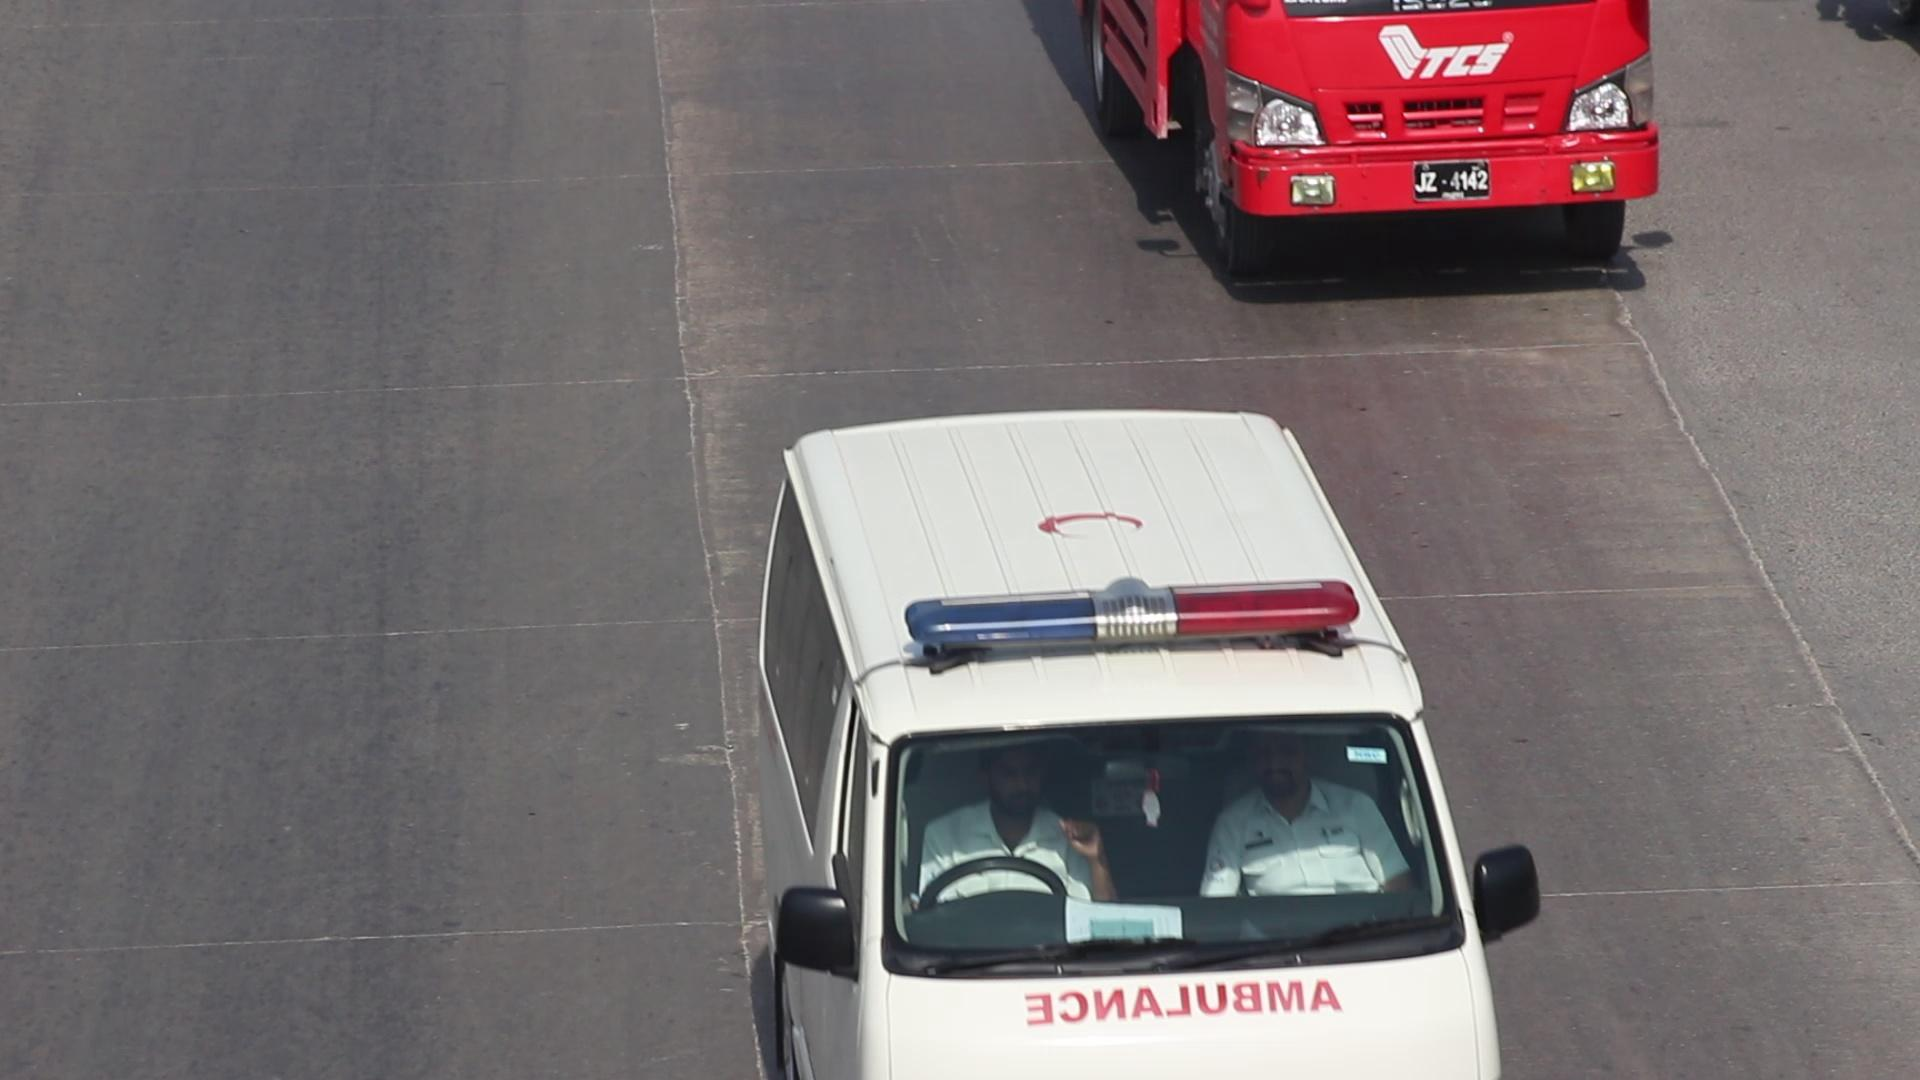windshield: (877, 683, 1494, 1000)
